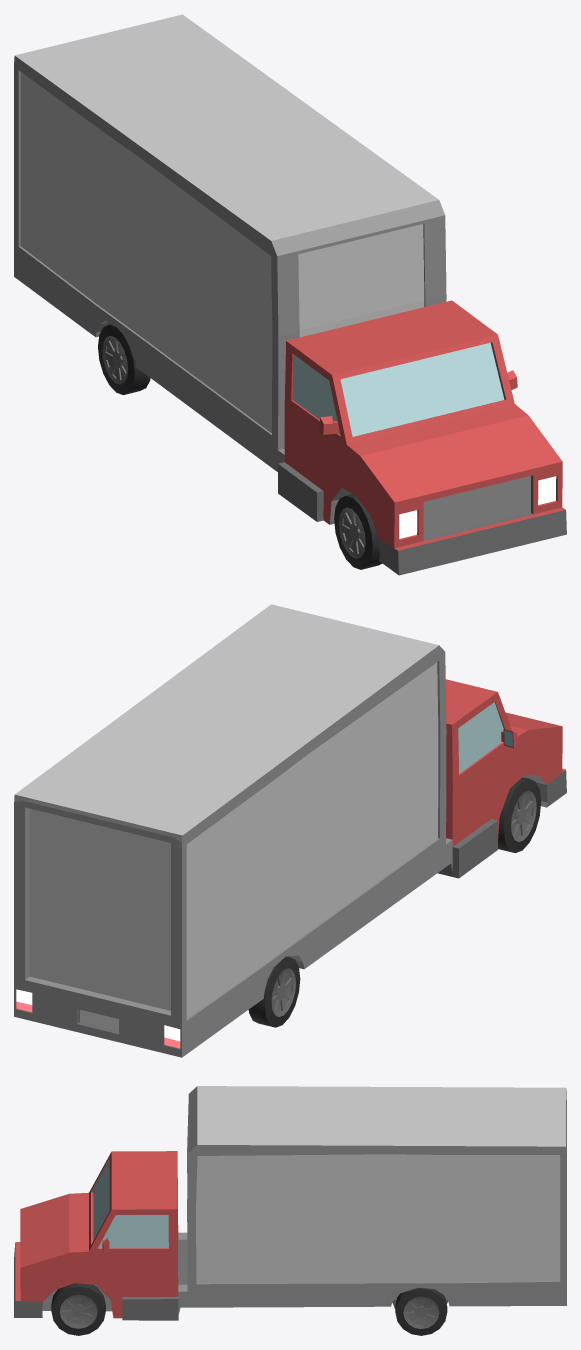
The model's file is low_poly_truck.glb.
3 views of the same model, one above another, from view 1: azimuth 30°, elevation 25°; view 2: azimuth 150°, elevation 25°; view 3: azimuth 270°, elevation 25° (orthographic). The views are drawn at different scales.
Parts seen in each view (by area): view 1: Cube.012_15, Cube.010_13, Cube.011_14, Cube.014_17, Cube.008_11, Wheel.001_19, Wheel.004_21, Cube.009_12; view 2: Cube.012_15, Cube.004_7, Cube.011_14, Cube.003_6, Cube.010_13, Wheel.001_19, Wheel.004_21, Cube.008_11, Cube.014_17, Cube.002_5, Cube_0, Cube.001_4; view 3: Cube.012_15, Cube.010_13, Cube.011_14, Cube.014_17, Wheel.003_18, Wheel.002_20, Cube.008_11, Cube.001_4.
Part boxes in pixels (bbox=[...]): Cube.012_15: bbox=[15, 14, 438, 432]; Cube.010_13: bbox=[284, 300, 565, 550]; Cube.011_14: bbox=[14, 56, 530, 538]; Cube.014_17: bbox=[293, 342, 504, 436]; Cube.008_11: bbox=[278, 462, 566, 575]; Wheel.001_19: bbox=[334, 494, 382, 569]; Wheel.004_21: bbox=[98, 324, 150, 394]; Cube.009_12: bbox=[399, 476, 556, 538]; Cube.012_15: bbox=[15, 604, 438, 1018]; Cube.004_7: bbox=[30, 808, 170, 1010]; Cube.011_14: bbox=[182, 645, 524, 1057]; Cube.003_6: bbox=[14, 775, 547, 1057]; Cube.010_13: bbox=[445, 679, 565, 846]; Wheel.001_19: bbox=[498, 777, 541, 853]; Wheel.004_21: bbox=[248, 956, 300, 1027]; Cube.008_11: bbox=[452, 770, 566, 878]; Cube.014_17: bbox=[458, 702, 503, 773]; Cube.002_5: bbox=[17, 702, 504, 1055]; Cube_0: bbox=[15, 989, 180, 1049]; Cube.001_4: bbox=[76, 873, 458, 1034]; Cube.012_15: bbox=[188, 1086, 565, 1283]; Cube.010_13: bbox=[15, 1151, 178, 1318]; Cube.011_14: bbox=[42, 1086, 566, 1315]; Cube.014_17: bbox=[93, 1164, 168, 1248]; Wheel.003_18: bbox=[51, 1283, 105, 1335]; Wheel.002_20: bbox=[395, 1287, 447, 1335]; Cube.008_11: bbox=[14, 1238, 178, 1320]; Cube.001_4: bbox=[178, 1239, 187, 1318].
Bounding box in the file's own units: 1.31 × 1.71 × 4.48.
